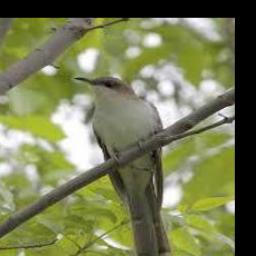Cuckoo: (75, 76, 174, 256)
